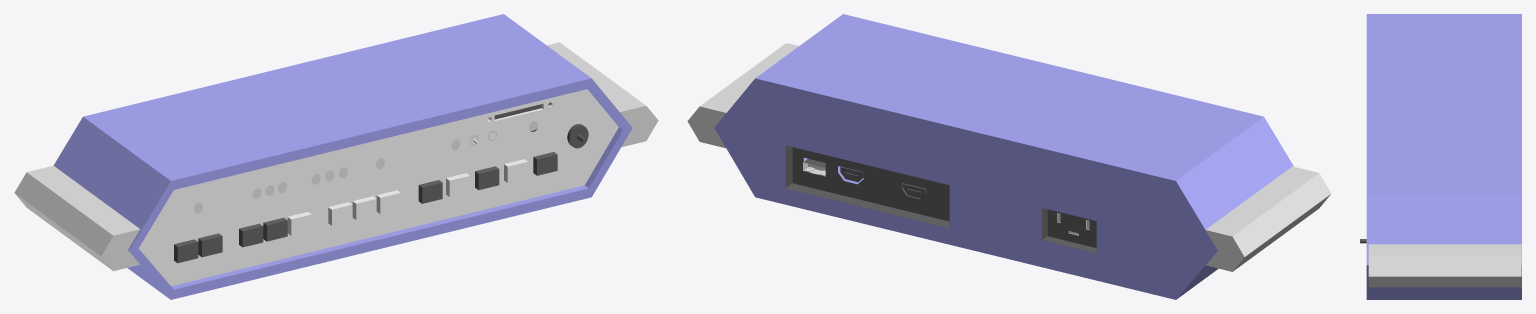
3 renders of one model, left to right at view 1: azimuth 30°, elevation 25°; view 2: azimuth 150°, elevation 25°; view 3: azimuth 270°, elevation 25°, orthographic. The views are drawn at different scales.
Parts seen in each view (by area): view 1: node_fccfee79_1f8f_464c_9e7d_f06b6eefc6bb_mesh0.001, node_4b5e16cc_2326_4fdf_9932_6c9172331877_mesh0.001, node_08ece0d4_6f5e_4bd2_a8ff_281f0e03c8c3_mesh0.001, node_9985dc0f_c3c8_42a7_b79d_9befc75a0448_mesh0.001, Плоскость.001; view 2: node_fccfee79_1f8f_464c_9e7d_f06b6eefc6bb_mesh0.001, node_08ece0d4_6f5e_4bd2_a8ff_281f0e03c8c3_mesh0.001, node_9985dc0f_c3c8_42a7_b79d_9befc75a0448_mesh0.001; view 3: node_fccfee79_1f8f_464c_9e7d_f06b6eefc6bb_mesh0.001, node_08ece0d4_6f5e_4bd2_a8ff_281f0e03c8c3_mesh0.001.
Boxes of the visible parts, left/top/right/bottom form: node_fccfee79_1f8f_464c_9e7d_f06b6eefc6bb_mesh0.001: left=53, top=14, right=632, bottom=299; node_4b5e16cc_2326_4fdf_9932_6c9172331877_mesh0.001: left=138, top=89, right=618, bottom=285; node_08ece0d4_6f5e_4bd2_a8ff_281f0e03c8c3_mesh0.001: left=14, top=42, right=658, bottom=271; node_9985dc0f_c3c8_42a7_b79d_9befc75a0448_mesh0.001: left=174, top=102, right=588, bottom=263; Плоскость.001: left=194, top=121, right=537, bottom=213; node_fccfee79_1f8f_464c_9e7d_f06b6eefc6bb_mesh0.001: left=714, top=14, right=1293, bottom=299; node_08ece0d4_6f5e_4bd2_a8ff_281f0e03c8c3_mesh0.001: left=687, top=43, right=1331, bottom=271; node_9985dc0f_c3c8_42a7_b79d_9befc75a0448_mesh0.001: left=785, top=145, right=1096, bottom=253; node_fccfee79_1f8f_464c_9e7d_f06b6eefc6bb_mesh0.001: left=1366, top=14, right=1521, bottom=299; node_08ece0d4_6f5e_4bd2_a8ff_281f0e03c8c3_mesh0.001: left=1368, top=244, right=1521, bottom=287.
Bounding box in the file's own units: 145 × 29.58 × 41.35.
